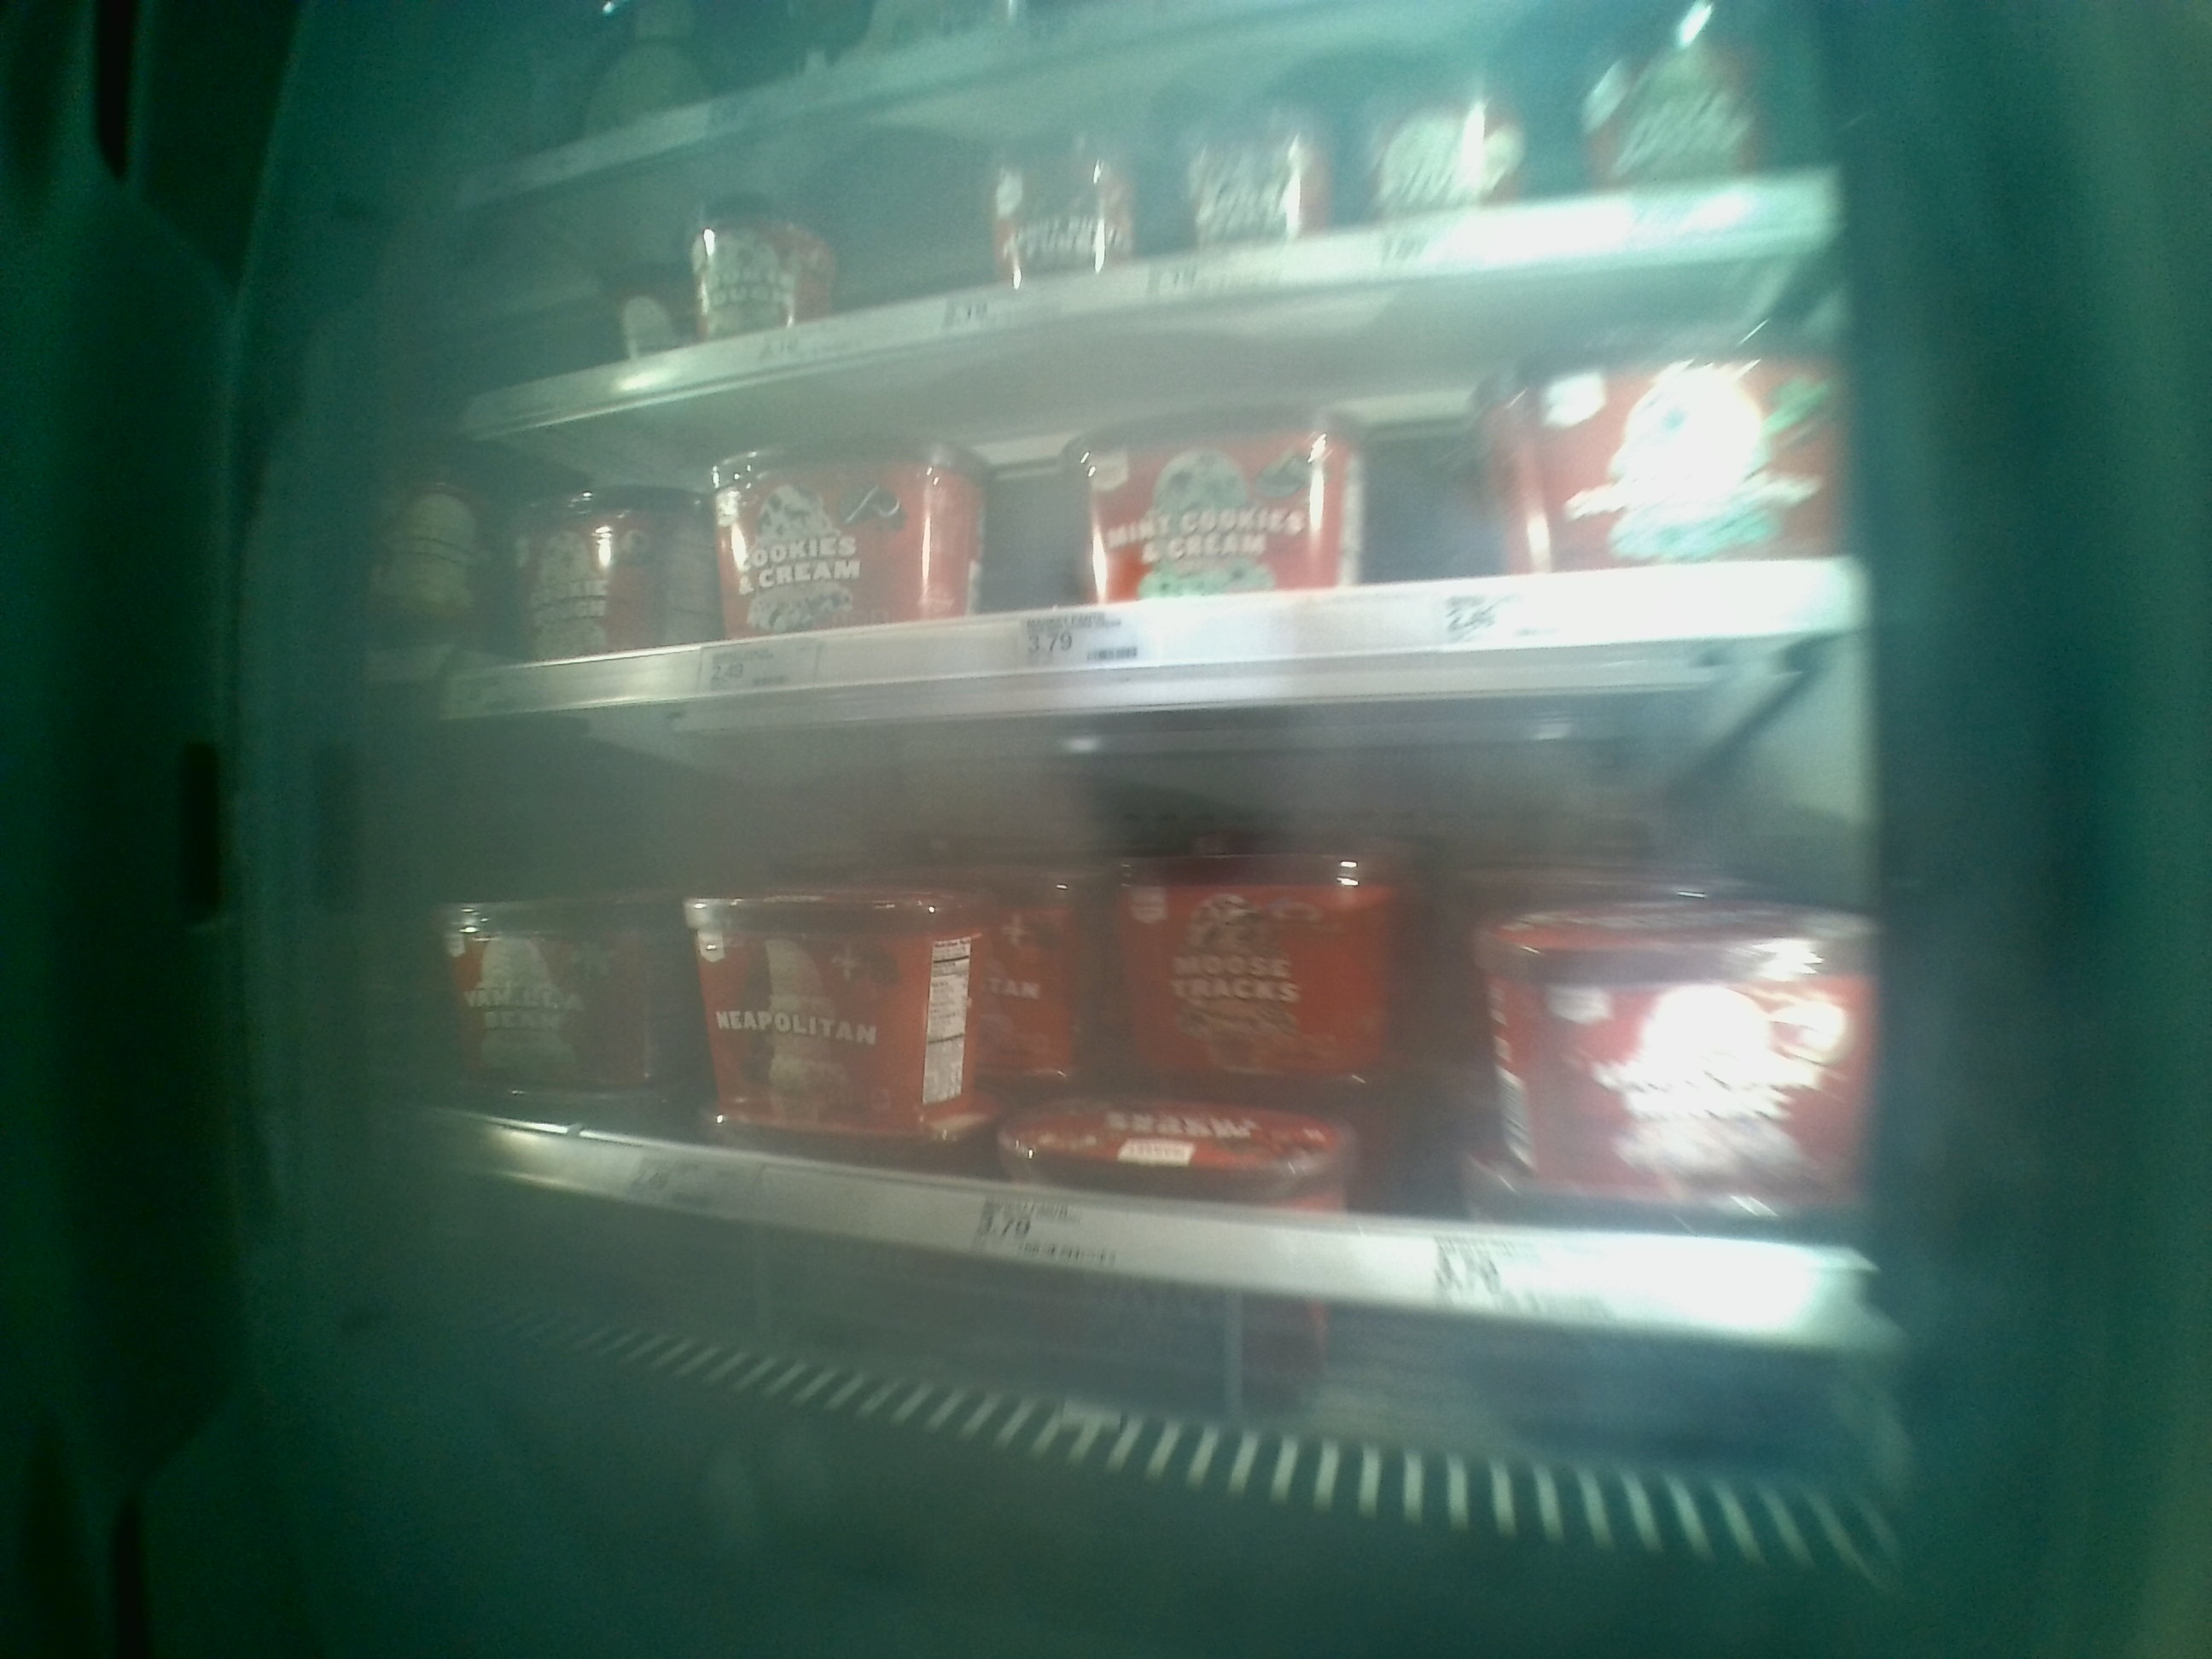shelf: (444, 711, 1885, 1424), (439, 232, 1850, 706)
